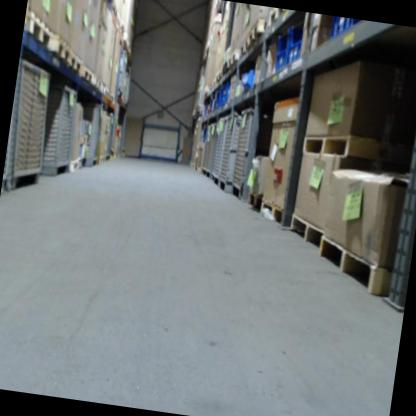pallet: (314, 236, 396, 297), (301, 127, 414, 169), (22, 9, 59, 52), (286, 214, 324, 249), (256, 196, 285, 224), (246, 17, 266, 50), (53, 36, 73, 65), (68, 51, 84, 76), (267, 7, 285, 29), (80, 64, 95, 84), (226, 47, 239, 70), (246, 193, 263, 207), (239, 37, 248, 59)
small_load_carrier: (286, 18, 312, 68), (276, 26, 294, 75), (330, 16, 352, 42)
stillage: (3, 62, 53, 196), (40, 80, 81, 177), (228, 108, 258, 205), (215, 111, 239, 194), (82, 99, 103, 170), (210, 114, 226, 183), (205, 122, 218, 183)
